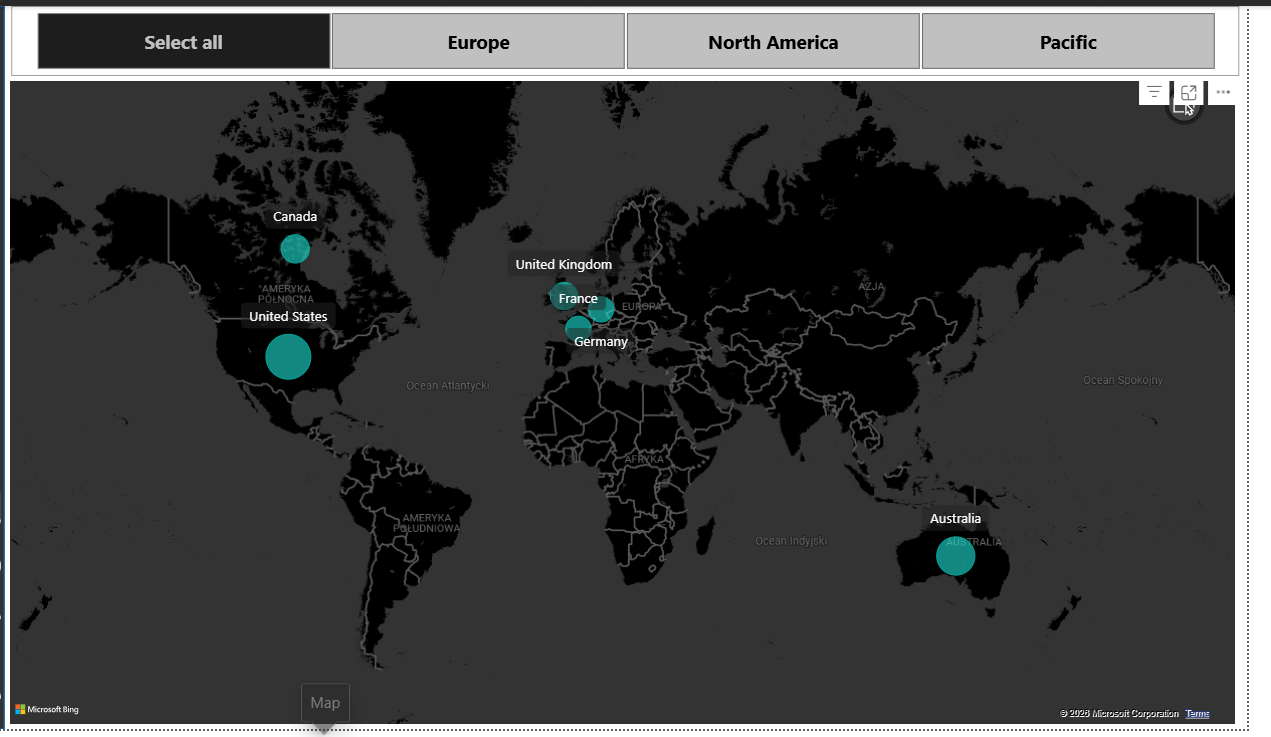

The dashboard page shown, as its layout file describes it:
{"tool":"powerbi","page":{"name":"Map","canvas":[1280,720],"ordinal":1},"visuals":[{"type":"shape","box":[0,0,44.4,720],"z":0},{"type":"map","fields":{"Category":["Territory Lookup.Country"],"Size":["Measure Table DAX.Ilość Zamówień"]},"box":[44.3,69.5,1228.6,650.1],"z":1000},{"type":"slicer","fields":{"Values":["Territory Lookup.Continent"]},"box":[51.4,0,1221.5,69.5],"z":2000},{"type":"actionButton","box":[0,473.7,44.7,49.4],"z":3000},{"type":"actionButton","box":[0,650,44.7,49.4],"z":4000},{"type":"actionButton","box":[0,591.2,44.7,49.4],"z":5000},{"type":"actionButton","box":[0,532.5,44.7,49.4],"z":6000}]}

Visuals, with their boxes in screenshot pixels (x1, y1, x2, y2), scaled from the page's 1280x720 canvas onto the 1271x737 screenshot:
shape: BBox(0, 0, 44, 736)
map - Territory Lookup.Country x Measure Table DAX.Ilość Zamówień: BBox(44, 71, 1264, 736)
slicer - Territory Lookup.Continent: BBox(51, 0, 1264, 71)
actionButton: BBox(0, 485, 44, 535)
actionButton: BBox(0, 665, 44, 716)
actionButton: BBox(0, 605, 44, 656)
actionButton: BBox(0, 545, 44, 596)
